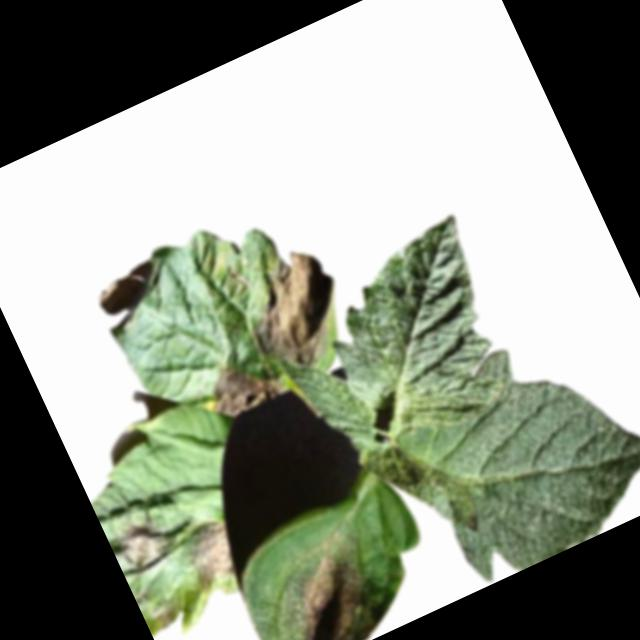Late_blight: (227, 241, 363, 385), (263, 541, 391, 640), (196, 346, 284, 426), (89, 260, 173, 336), (174, 514, 245, 592), (110, 510, 179, 580), (152, 601, 181, 629)
